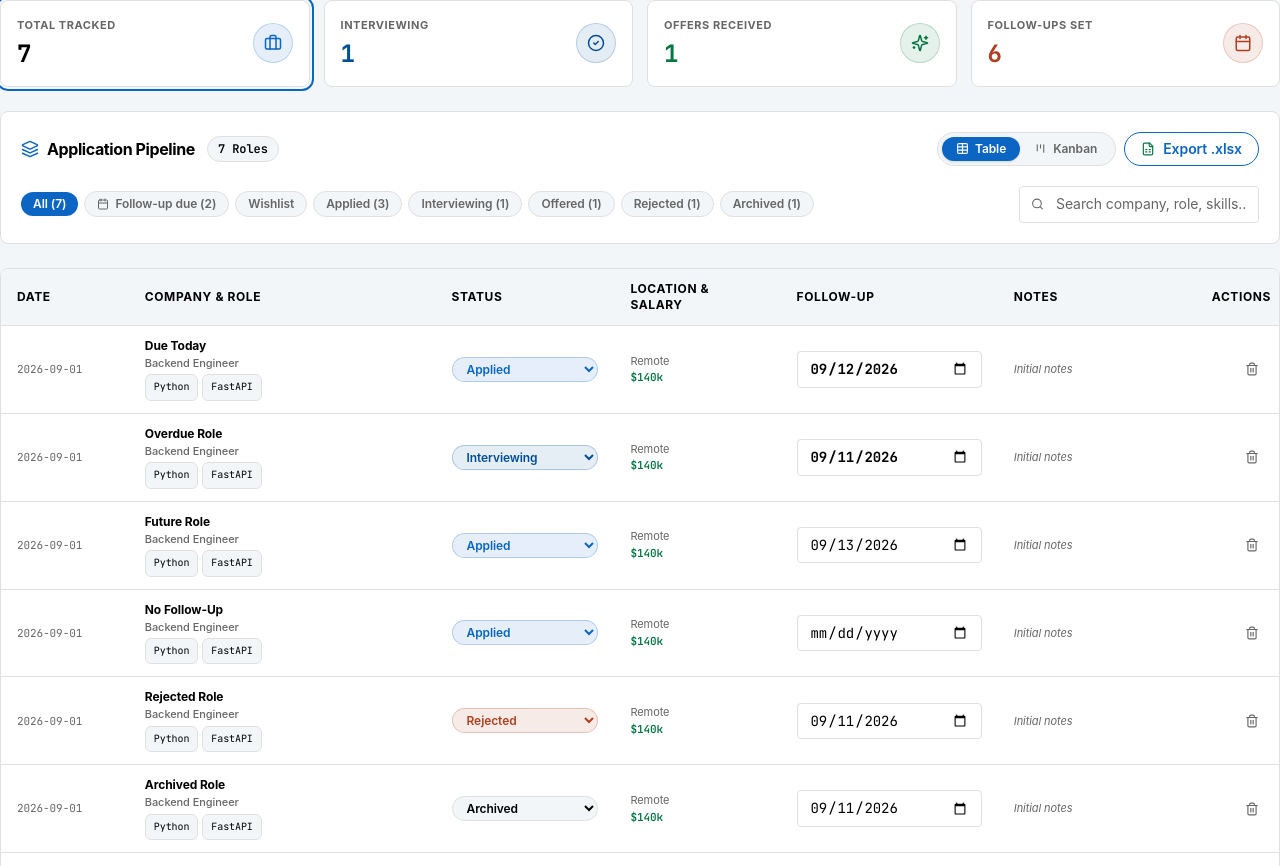
Test case: ApplicationsTracker state synchronization and local dates (B12, B13, B15) › combines follow-up filtering with status and search, and restores rows when switched off
Click the button "Follow-up due (2)". click: point(157, 204)
box: [84,192,229,218]
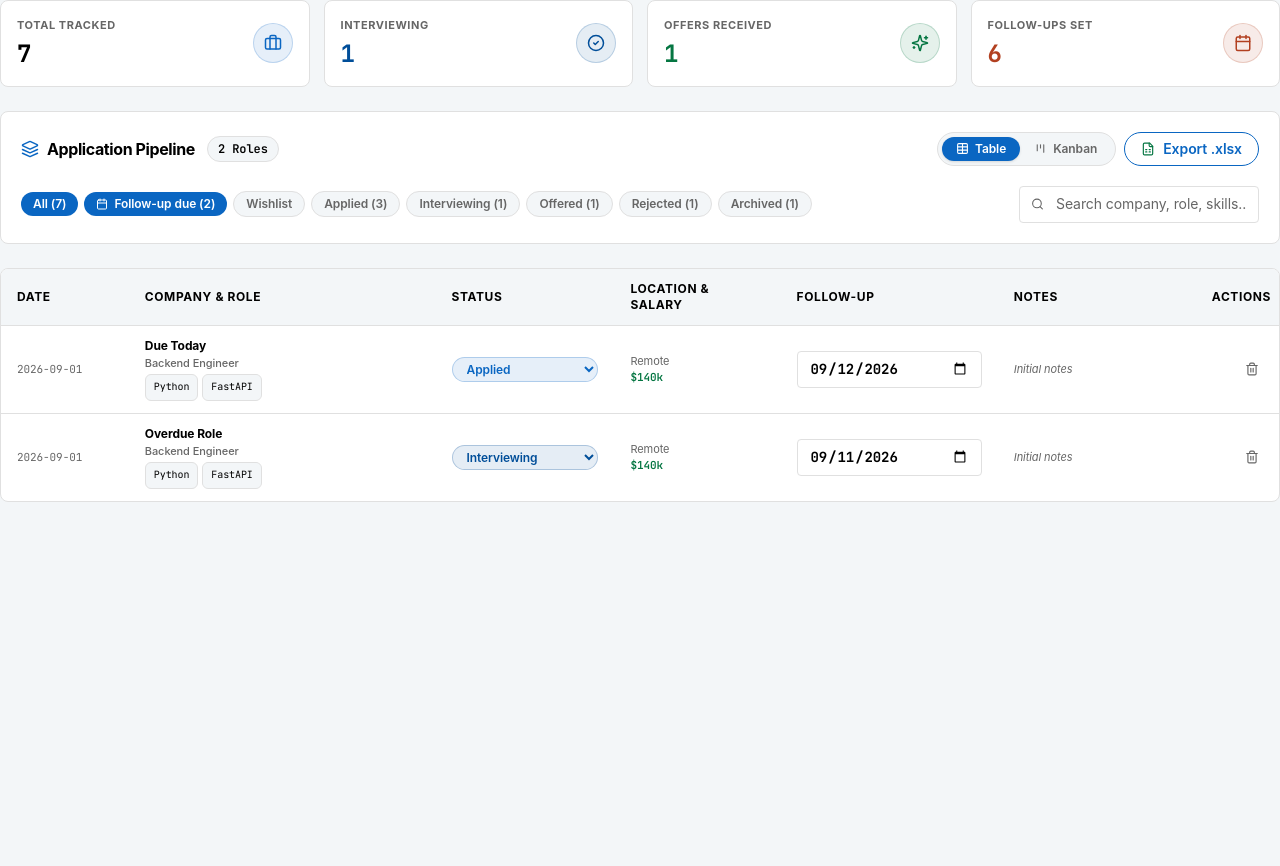
Click the button "Applied (3)". click: point(356, 204)
box: [311,192,400,218]
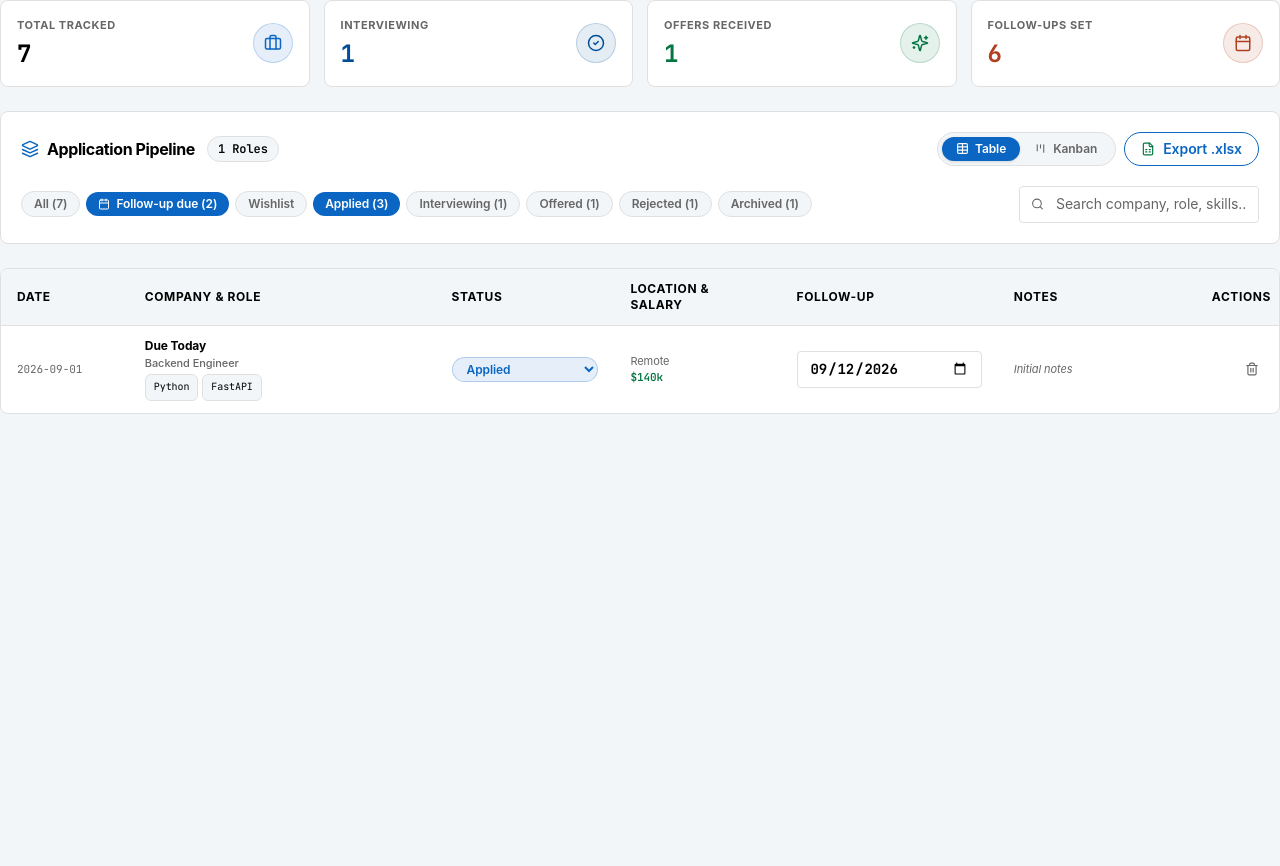
Check: the text "Due Today" is shown, box [145,338,206,354]
Check: the text "Overdue Role" is gone
Type "Future Role" into the field with placeholder "Search company, role, skills...". click: point(1139, 205)
box: [1019,186,1259,223]
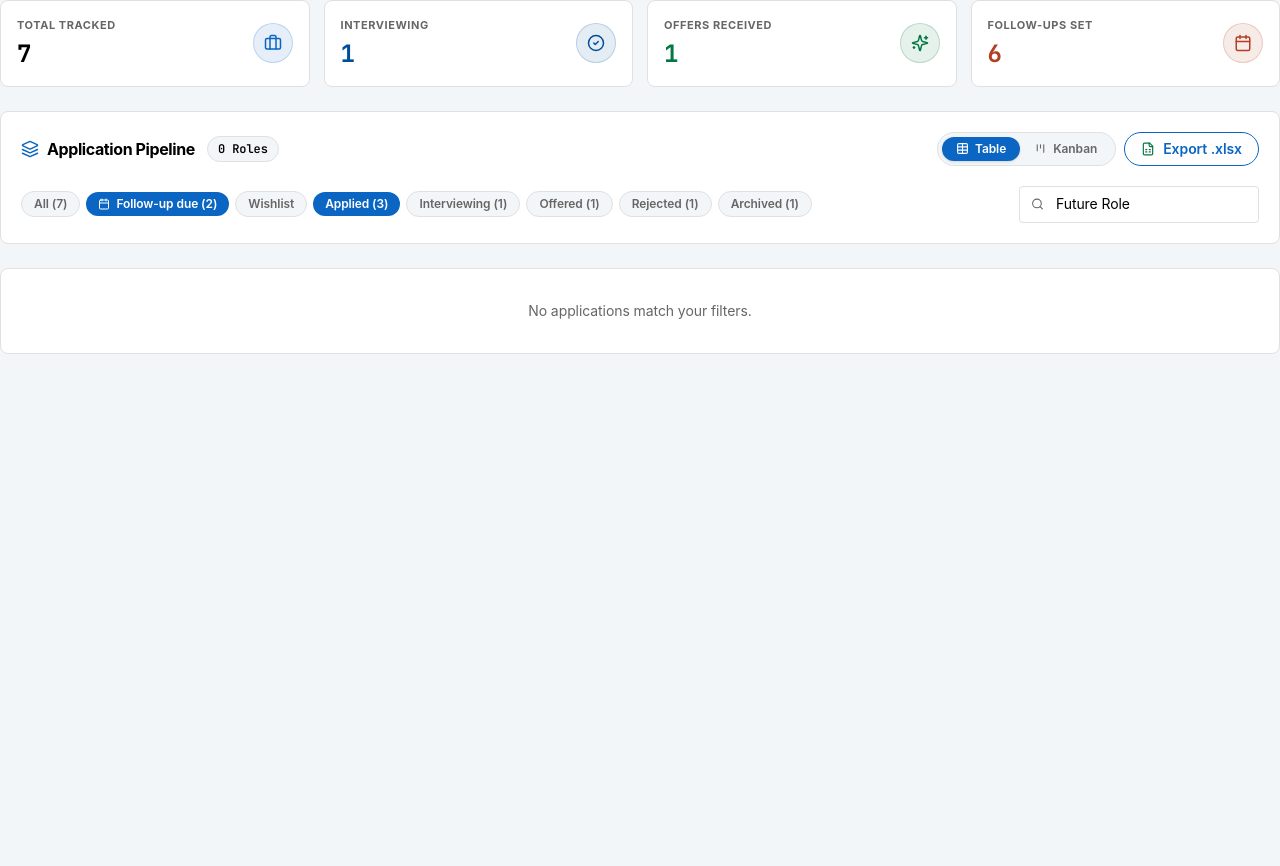
Check: the text "Due Today" is gone
Check: the text "No applications match your filters." is shown, box [0,268,1279,354]
Click the button "Follow-up due (2)". click: point(158, 204)
box: [86,192,229,216]
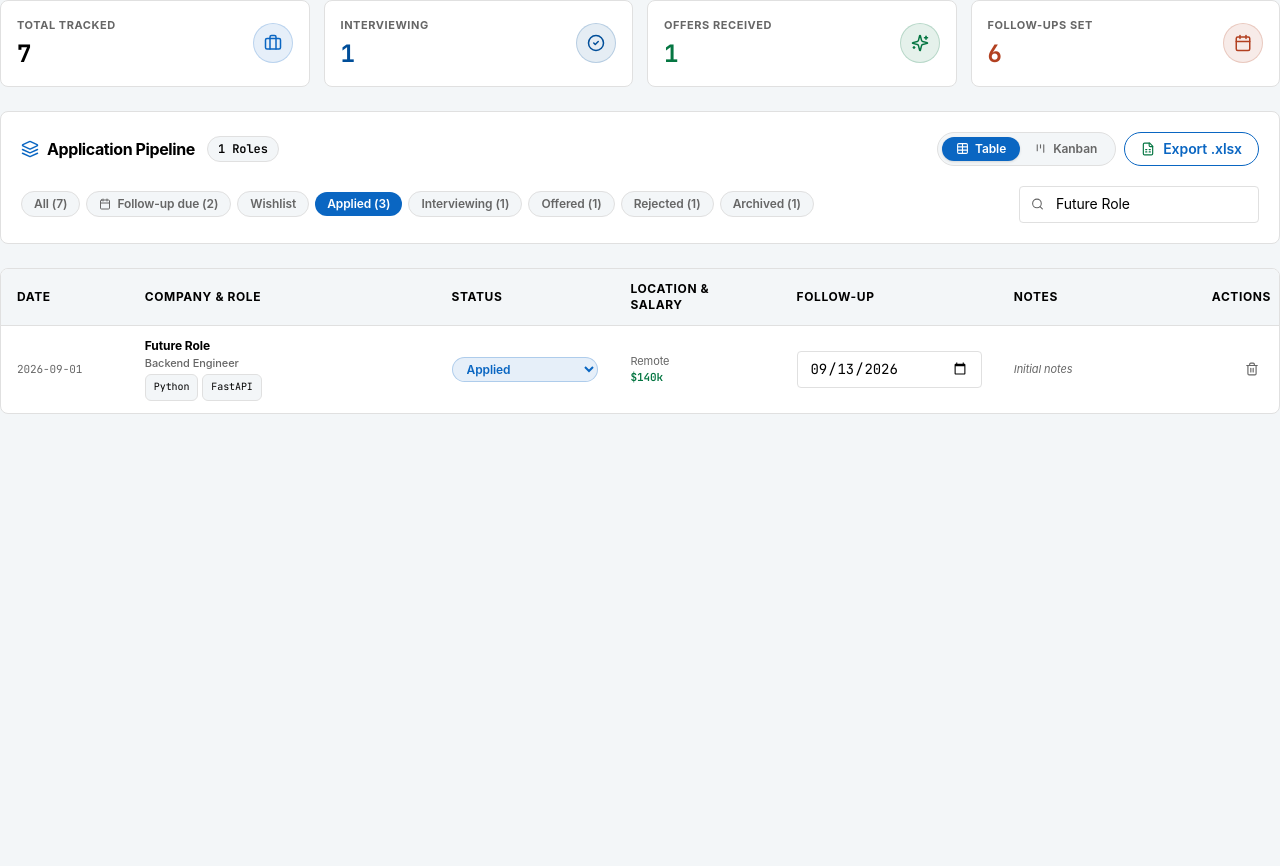
Check: the text "Future Role" is shown, box [145,338,210,354]
Check: the text "No applications match your filters." is gone
